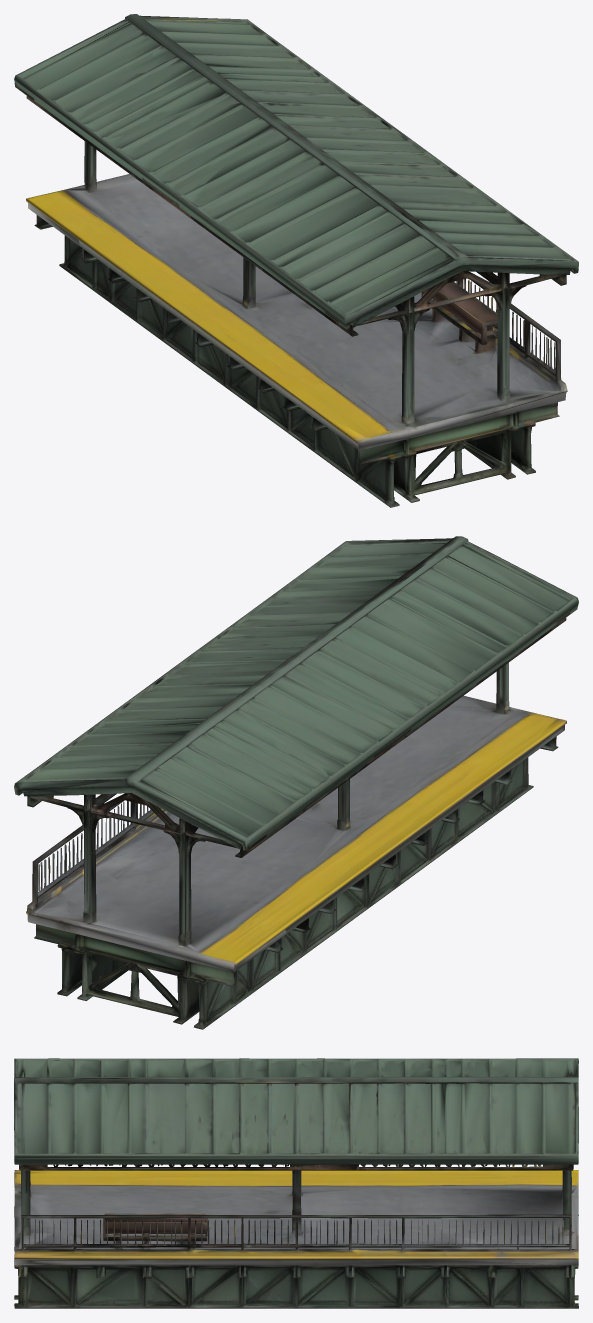
Rendered from platform_canopy.glb.
3 views of the same model, one above another, from view 1: azimuth 30°, elevation 25°; view 2: azimuth 150°, elevation 25°; view 3: azimuth 270°, elevation 25° (orthographic). The views are drawn at different scales.
Parts seen in each view (by area): view 1: node_0; view 2: node_0; view 3: node_0.
Boxes of the visible parts, bbox=[...] form: node_0: bbox=[14, 14, 578, 507]; node_0: bbox=[14, 536, 578, 1029]; node_0: bbox=[14, 1058, 578, 1308].
Size of the model in its own units: 0.4401 by 0.4202 by 1.08.
1 material, 1 textured.
